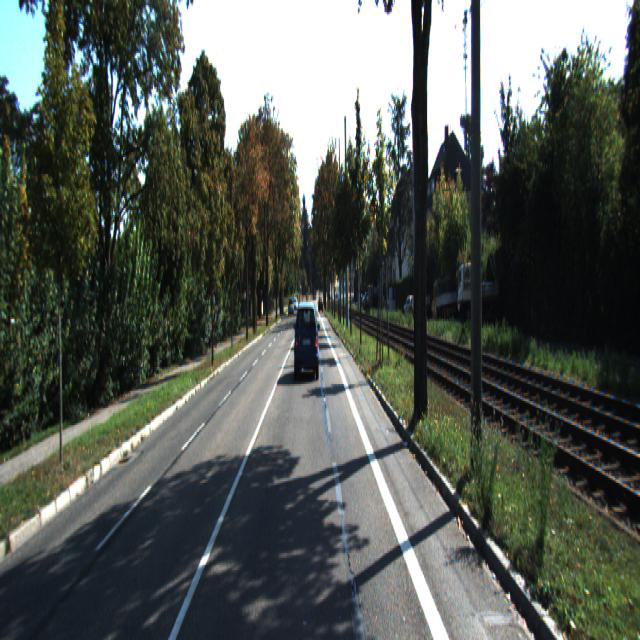Car: (457, 257, 499, 328), (294, 300, 320, 383), (430, 276, 458, 324), (412, 283, 431, 319)
